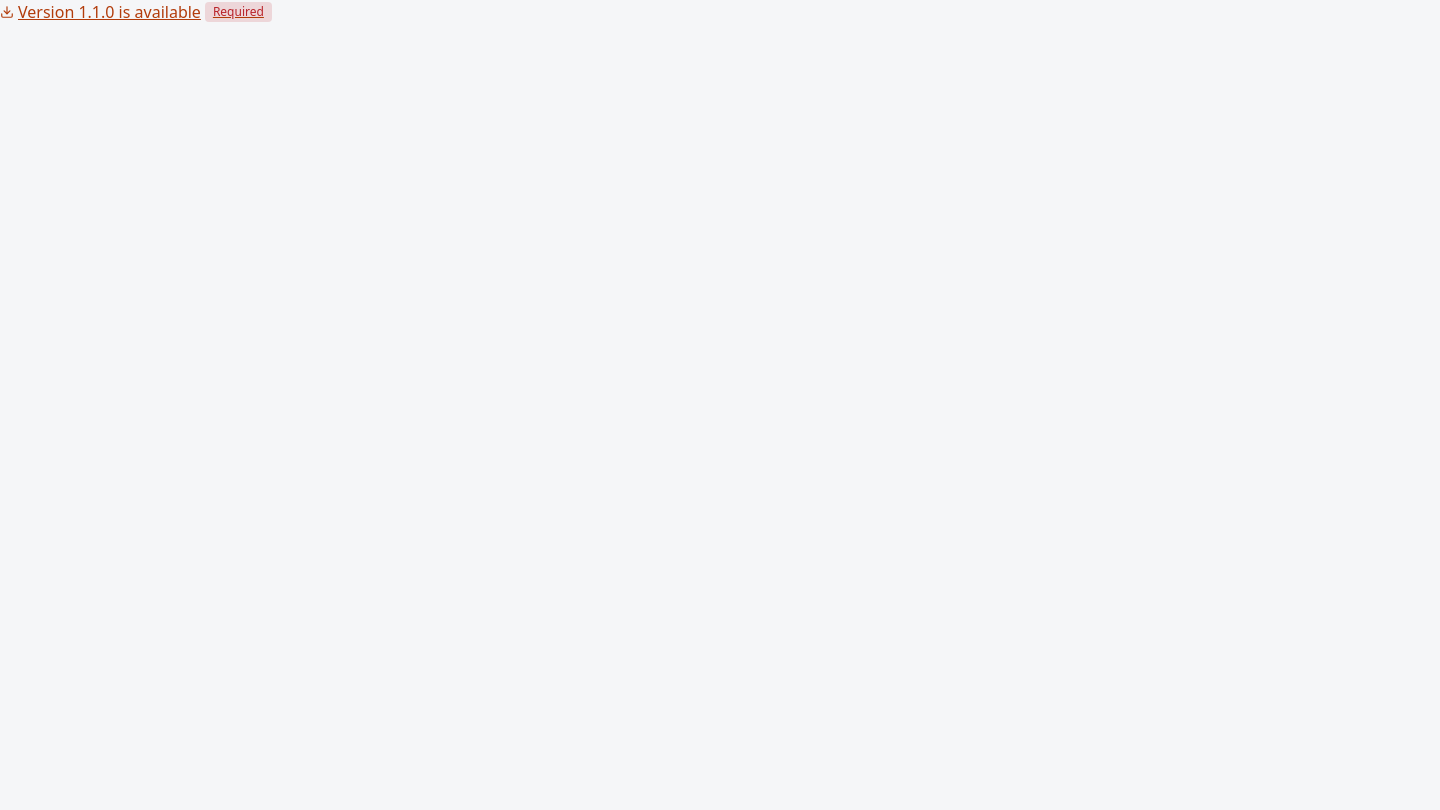
Test case: the new-release notice › names the version, marks it required, and opens the notes
Click the button "Version 1.1.0 is available Required" at (136, 12), box [0,0,272,24]
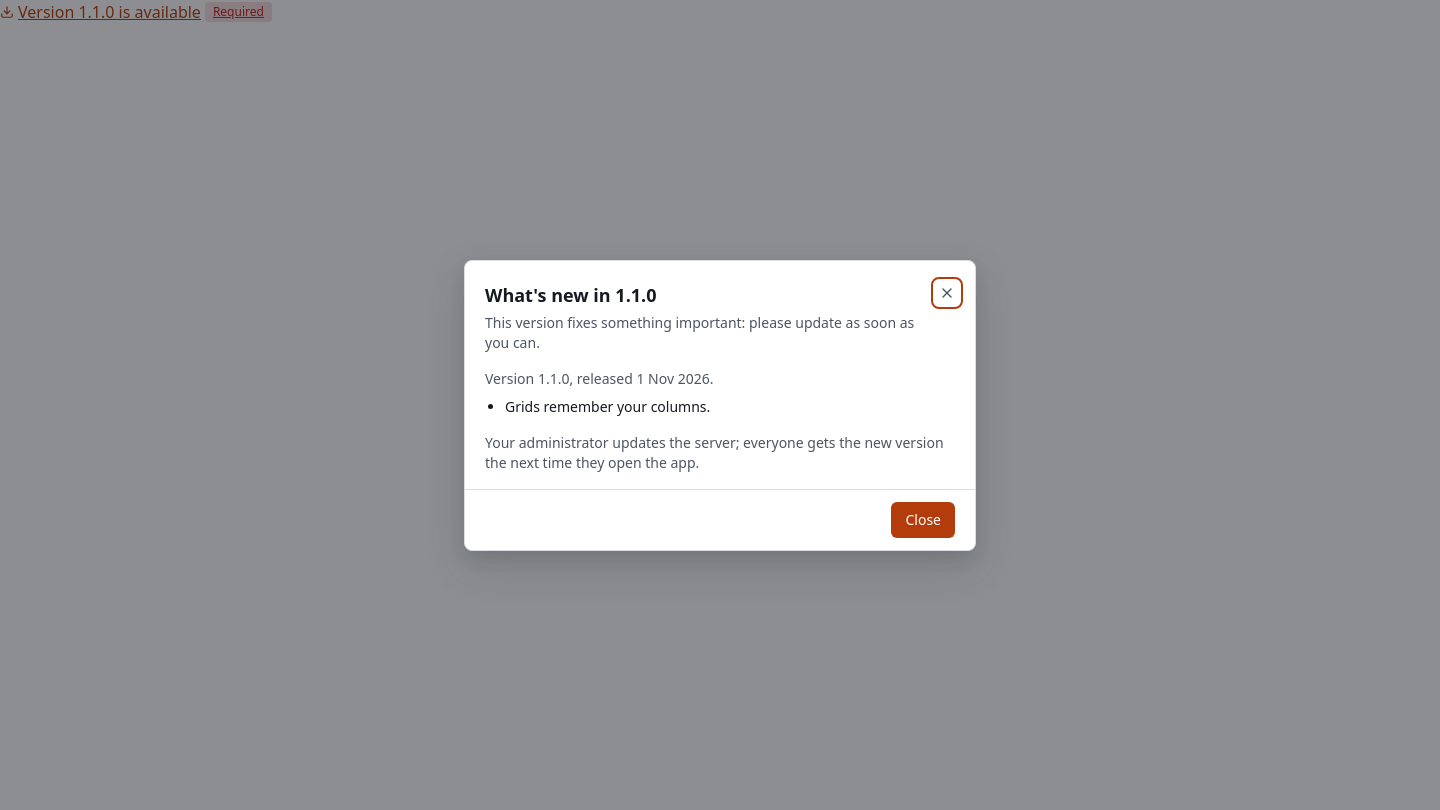
Expected: the text "Required" is shown, [205,2,272,22]
Expected: the dialog shows "Grids remember your columns.", [505,396,710,416]
